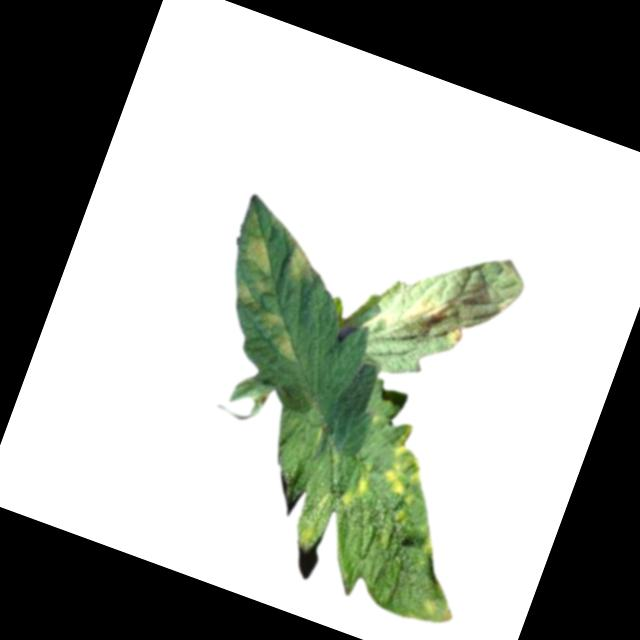Leaf_Mold: (378, 426, 446, 508), (397, 282, 473, 347), (250, 308, 314, 365), (234, 226, 288, 279), (281, 235, 330, 288), (403, 588, 457, 631), (336, 466, 374, 515), (230, 275, 268, 312)
